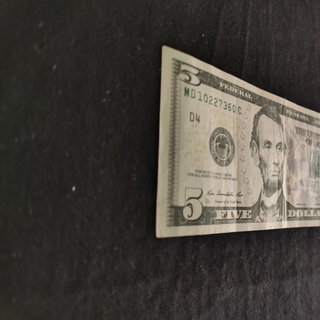5USDFront: (153, 45, 320, 238)
